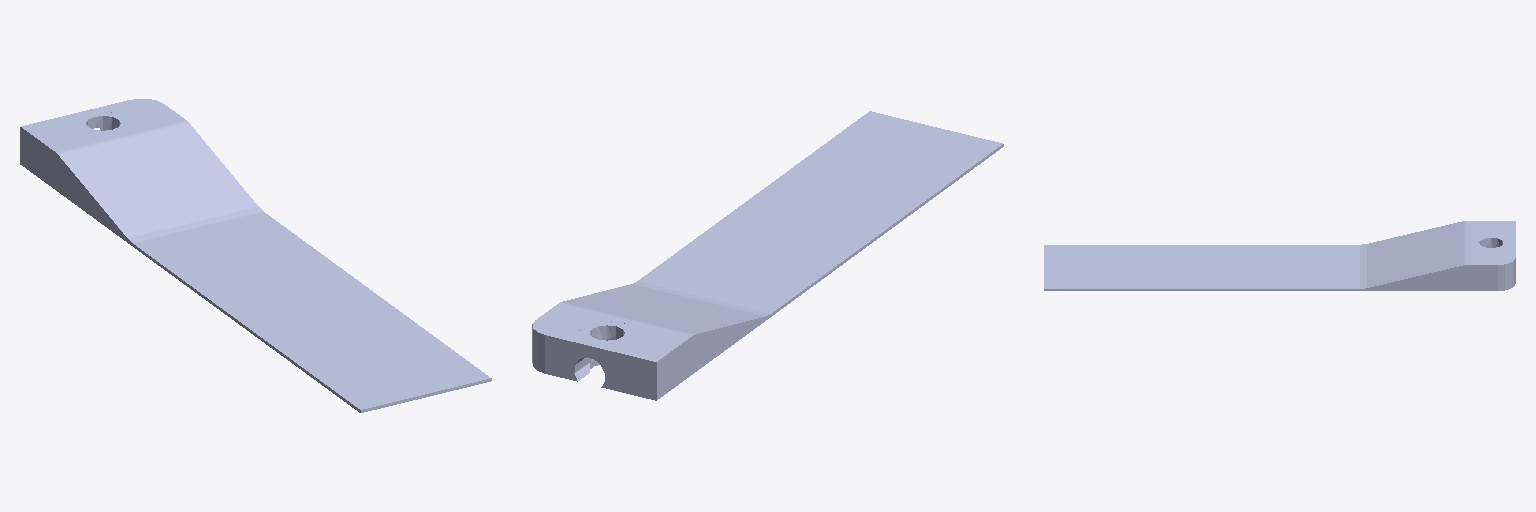
URDF robot description (Platform_golf_r0):
<robot
  name="Platform_golf_r0">
  <link
    name="Platform_golf_r0">
    <inertial>
      <origin
        xyz="1.0886 -0.14923 0.054595"
        rpy="0 0 0" />
      <mass
        value="14.913" />
      <inertia
        ixx="0.144283806432178"
        ixy="0.00285123419659862"
        ixz="0.0929467526393184"
        iyy="1.1827649075768"
        iyz="-0.000255719659106936"
        izz="1.26907253092403" />
    </inertial>
    <visual>
      <origin
        xyz="0.25 -0.28 0"
        rpy="1.5707963267949 0 1.5707963267949" />
      <geometry>
        <mesh
          filename="package://golf_platform/meshes/platform_golf.STL" />
      </geometry>
      <material
        name="">
        <color
          rgba="0.79608 0.82353 0.93725 1" />
      </material>
    </visual>
    <collision>
      <origin
        xyz="0 0 0"
        rpy="1.5707963267949 0 0" />
      <geometry>
        <mesh
          filename="package://golf_platform/meshes/platform_golf.STL" />
      </geometry>
    </collision>
  </link>
</robot>

--- Render facts (derived) ---
3 views of the same robot in one strip: view 1: azimuth 30°, elevation 25°; view 2: azimuth 150°, elevation 25°; view 3: azimuth 270°, elevation 25° (orthographic).
Robot: Platform_golf_r0 — 1 links, 0 joints (none); root link Platform_golf_r0; default pose: all joints at 0.
Links seen in each view (by area): view 1: Platform_golf_r0; view 2: Platform_golf_r0; view 3: Platform_golf_r0.
Link boxes in pixels (bbox=[...]): Platform_golf_r0: bbox=[20, 99, 491, 412]; Platform_golf_r0: bbox=[532, 111, 1003, 400]; Platform_golf_r0: bbox=[1044, 221, 1515, 290].
Bounding box of the posed robot: 0.3 × 1.35 × 0.083 m (x, y, z).
Meshes: 1 distinct files referenced, 1 mesh visuals loaded (1 binary STL).